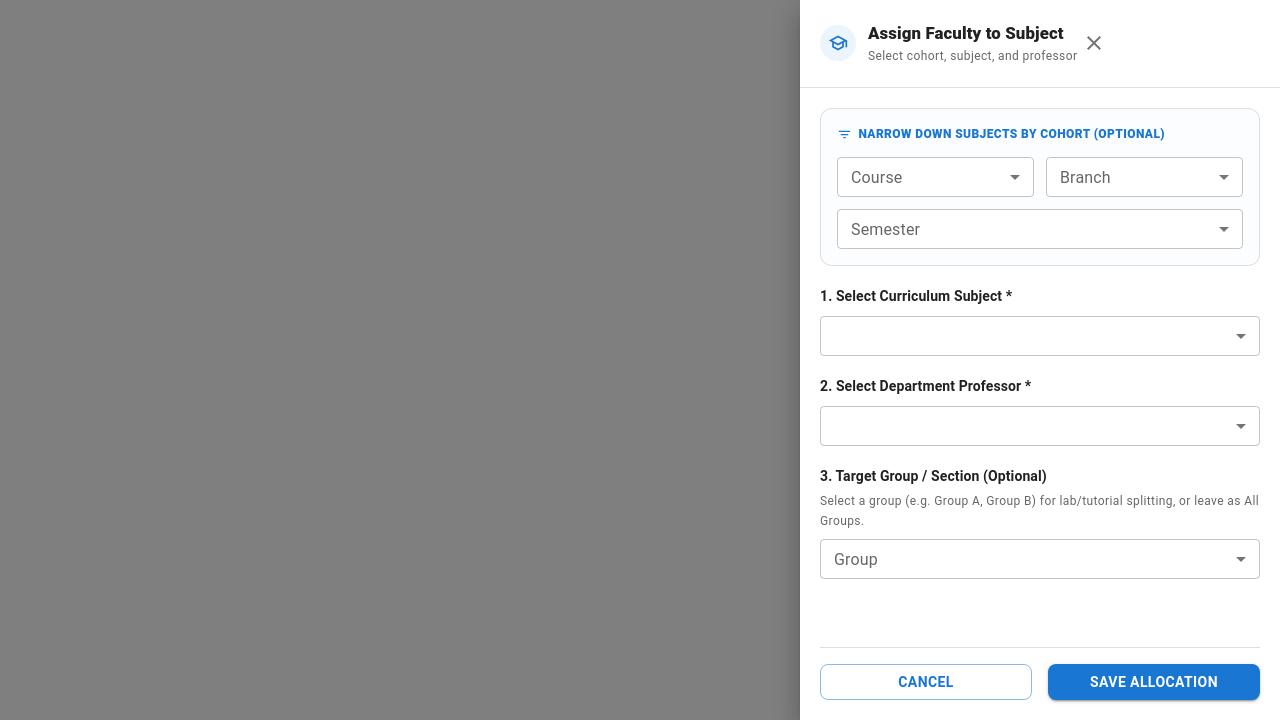
Test case: AssignFacultyDrawer › should validate form fields using Controller and not bare register
Expected: the heading "Assign Faculty to Subject" is shown, left=868, top=20, right=1077, bottom=47
# Click submit without selecting anything
Step 1. Click the button "Save Allocation" → (1154,682), box left=1048, top=664, right=1260, bottom=700
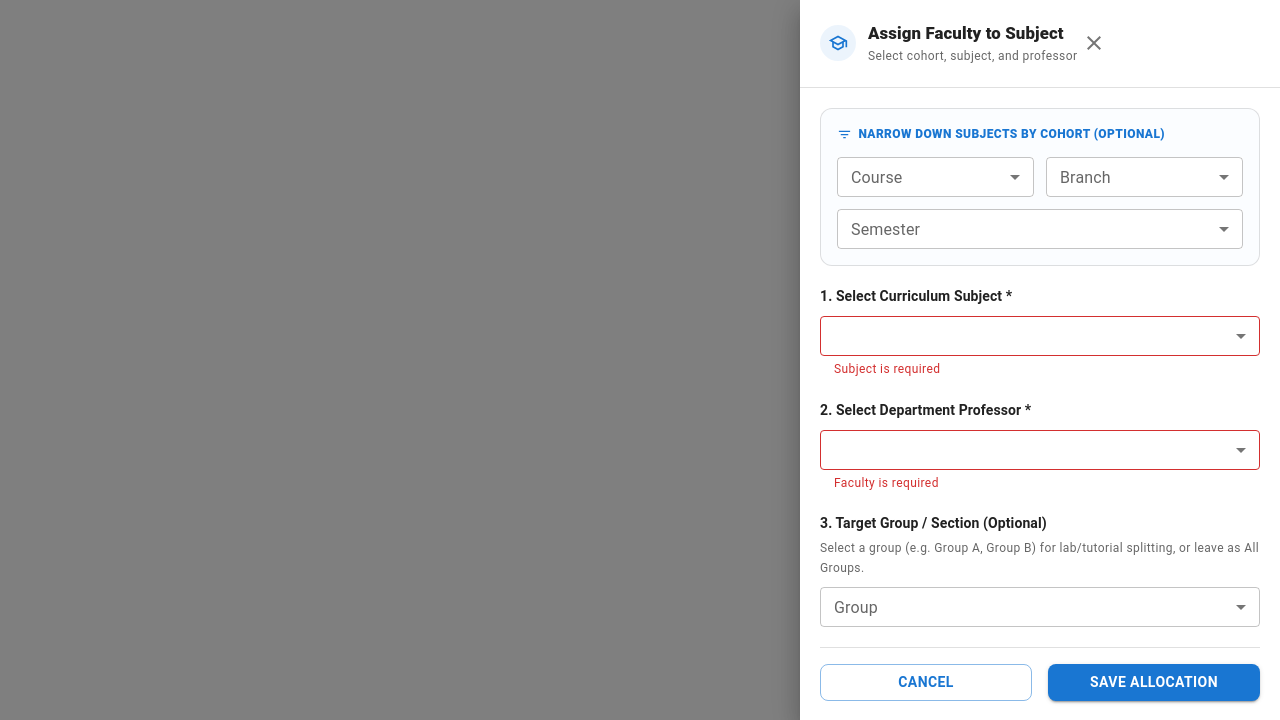
Now the text "Subject is required" is shown, box left=834, top=362, right=940, bottom=376
Now the text "Faculty is required" is shown, box left=834, top=476, right=939, bottom=490
